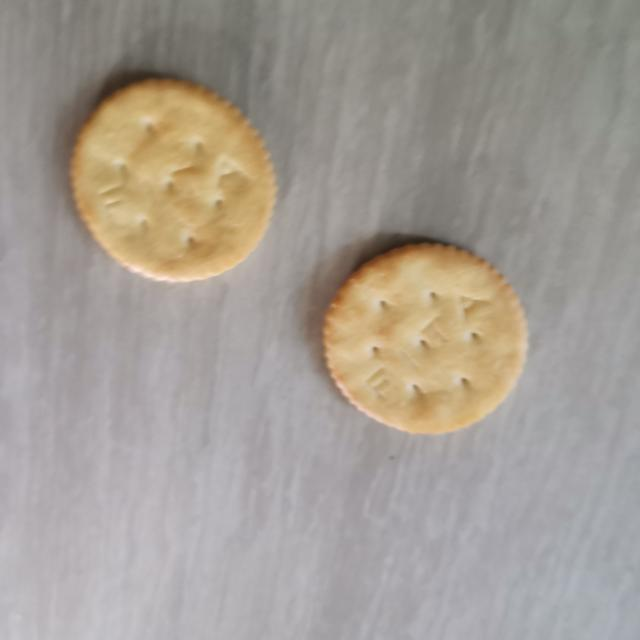Intact: (67, 69, 288, 297), (310, 231, 541, 441)
